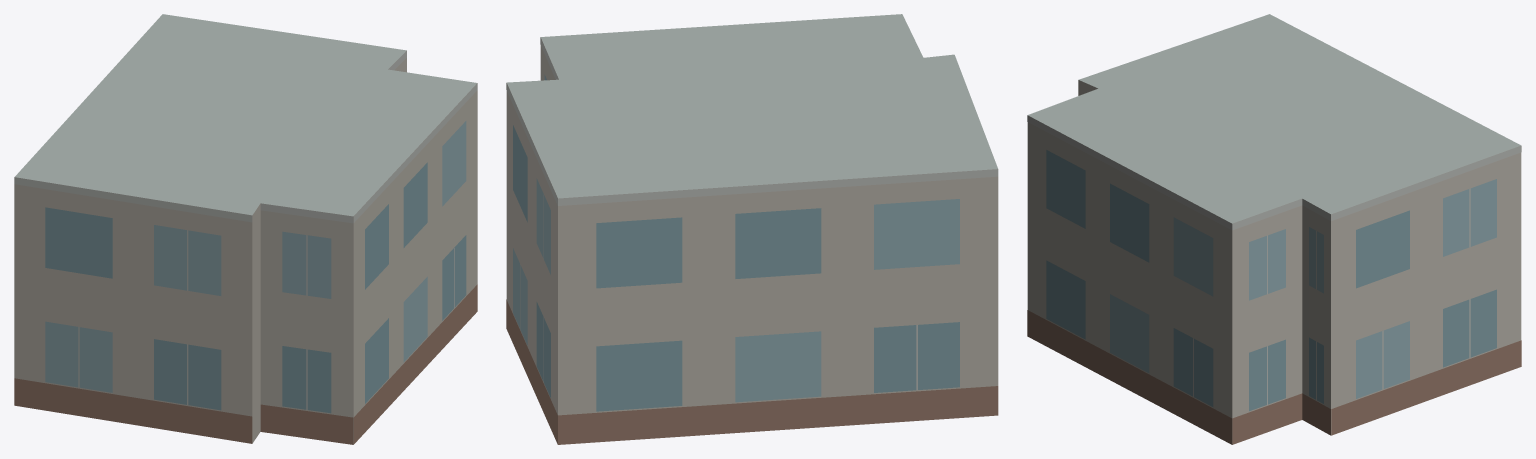
File: survey-upis-32825495.glb
The picture shows the model from 3 angles, left to right: view 1: azimuth 30°, elevation 25°; view 2: azimuth 150°, elevation 25°; view 3: azimuth 270°, elevation 25°; orthographic projection. The views are drawn at different scales.
Parts seen in each view (by area): view 1: survey-upis-32825495.tmp; view 2: survey-upis-32825495.tmp; view 3: survey-upis-32825495.tmp.
Boxes of the visible parts, bbox=[...] form: survey-upis-32825495.tmp: bbox=[14, 14, 477, 444]; survey-upis-32825495.tmp: bbox=[506, 14, 998, 444]; survey-upis-32825495.tmp: bbox=[1027, 14, 1521, 444].
Size of the model in its own units: 16.06 by 7.9 by 16.
